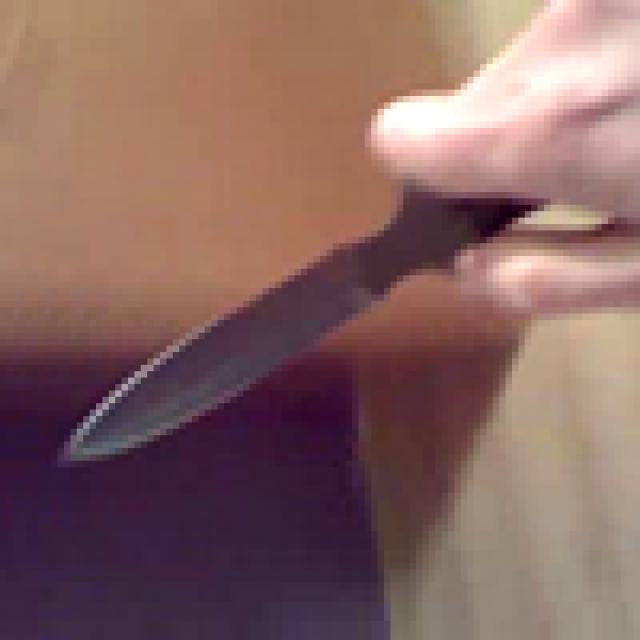Knife_Handle: (64, 22, 640, 464)
